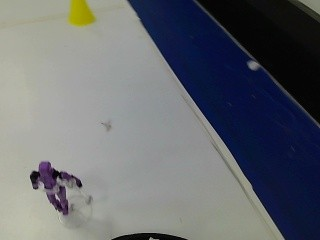cone: (59, 0, 96, 29)
pedestrian: (19, 154, 86, 222)
